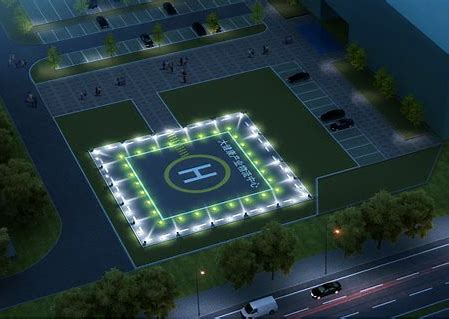H: (177, 164, 218, 184)
